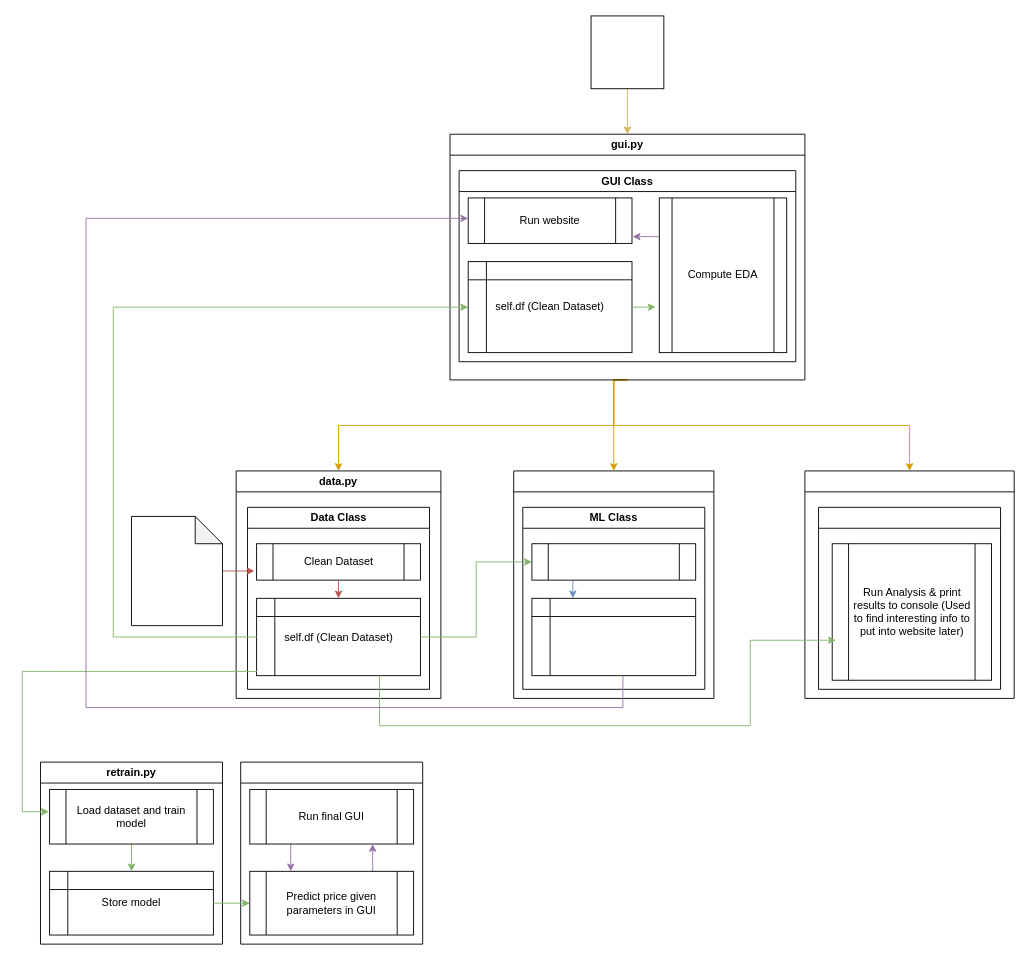
Some shapes in this 1030 by 960 pixel diagram are drawn without their labels. The box of each missing label's shape, as (x1, y1, x2, y2) in pixels:
algorithm results: (531, 597, 696, 676)
Analysis Class: (818, 506, 1001, 689)
analysis.py: (804, 470, 1014, 698)
application.py: (240, 761, 423, 944)
Australian Vehicle Prices.csv (Dirty Dataset): (131, 516, 222, 626)
main.py: (590, 15, 664, 89)
ml.py: (513, 470, 714, 698)
Run Algorithms: (531, 543, 696, 580)
